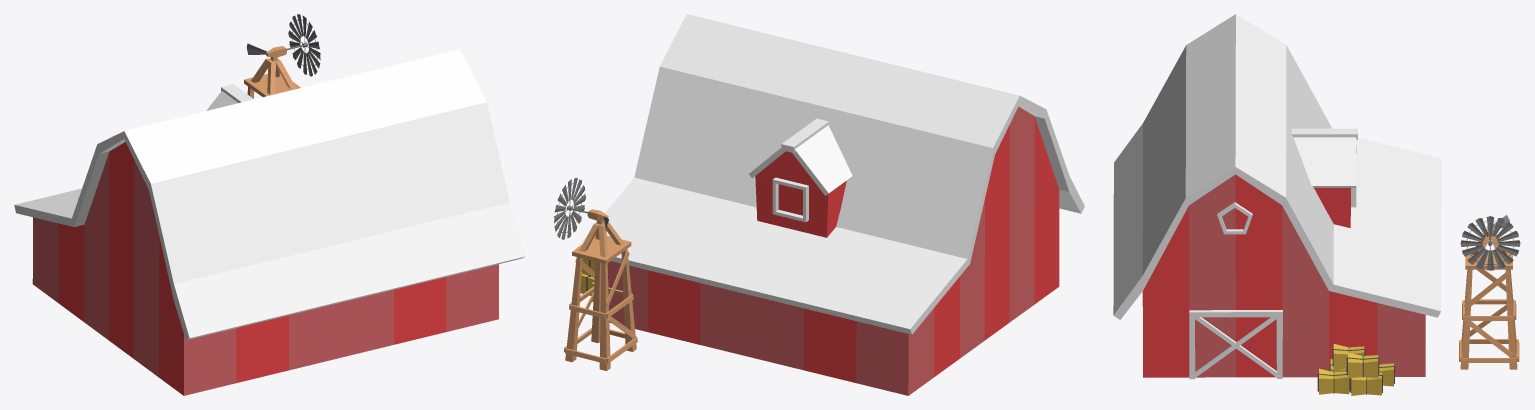
Rendered from Farm.fbx.
3 views of the same model, side by side, from view 1: azimuth 30°, elevation 25°; view 2: azimuth 150°, elevation 25°; view 3: azimuth 270°, elevation 25° (orthographic). The views are drawn at different scales.
Visible parts, largest first — view 1: FarmRoof, FarmA, FarmB, MillA, MillB; view 2: FarmRoof, FarmB, FarmA, MillA, MillB; view 3: FarmRoof, FarmB, FarmA, MillA, WheatA, MillB, WheatB.
Part boxes in pixels (box(x1,y1,x2,y2)): FarmRoof: box(14, 49, 525, 340); FarmA: box(32, 152, 498, 395); FarmB: box(58, 142, 446, 395); MillA: box(244, 46, 300, 98); MillB: box(246, 14, 320, 76); FarmRoof: box(577, 14, 1084, 334); FarmB: box(648, 117, 1059, 382); FarmA: box(607, 106, 1034, 395); MillA: box(564, 209, 637, 370); MillB: box(554, 177, 608, 239); FarmRoof: box(1113, 14, 1441, 379); FarmB: box(1142, 175, 1377, 377); FarmA: box(1189, 174, 1425, 377); MillA: box(1459, 226, 1519, 369); WheatA: box(1319, 344, 1393, 395); MillB: box(1460, 215, 1520, 270); WheatB: box(1317, 347, 1394, 394).
Bounding box in the file's own units: 10513 × 6362 × 10847.
